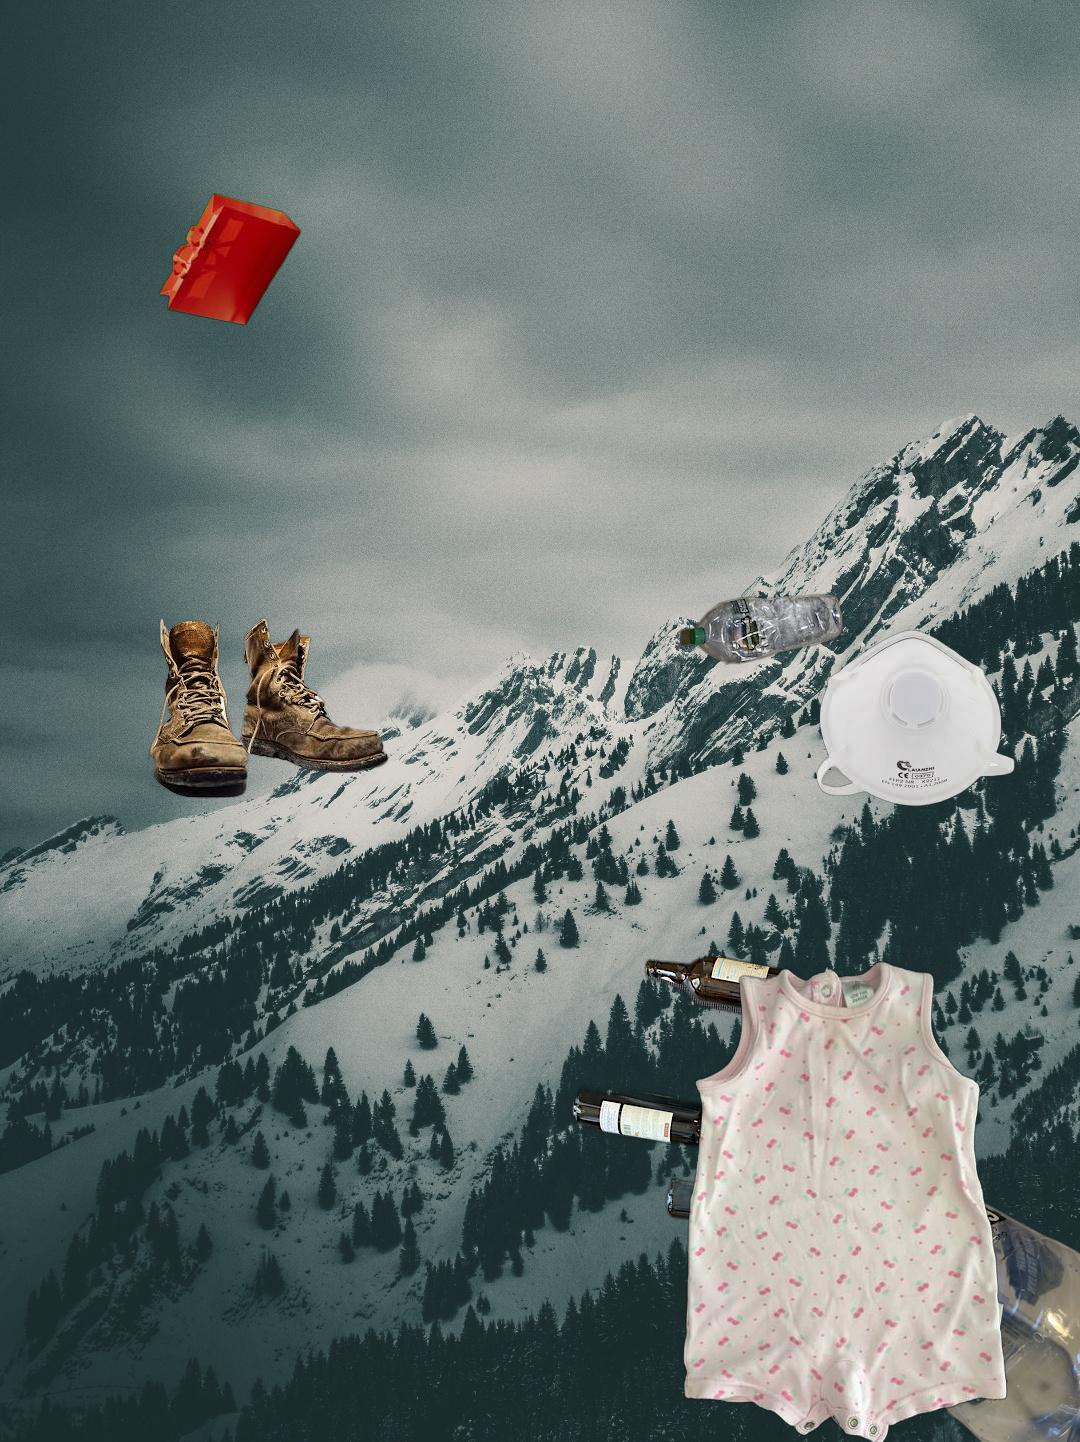clothes: (680, 958, 1011, 1442)
glass: (568, 950, 871, 1236)
paper-bag: (143, 191, 304, 328)
plastic-bottles: (807, 1123, 1080, 1442), (675, 585, 847, 669)
shoes: (146, 617, 391, 801)
trash: (815, 627, 1018, 809)
